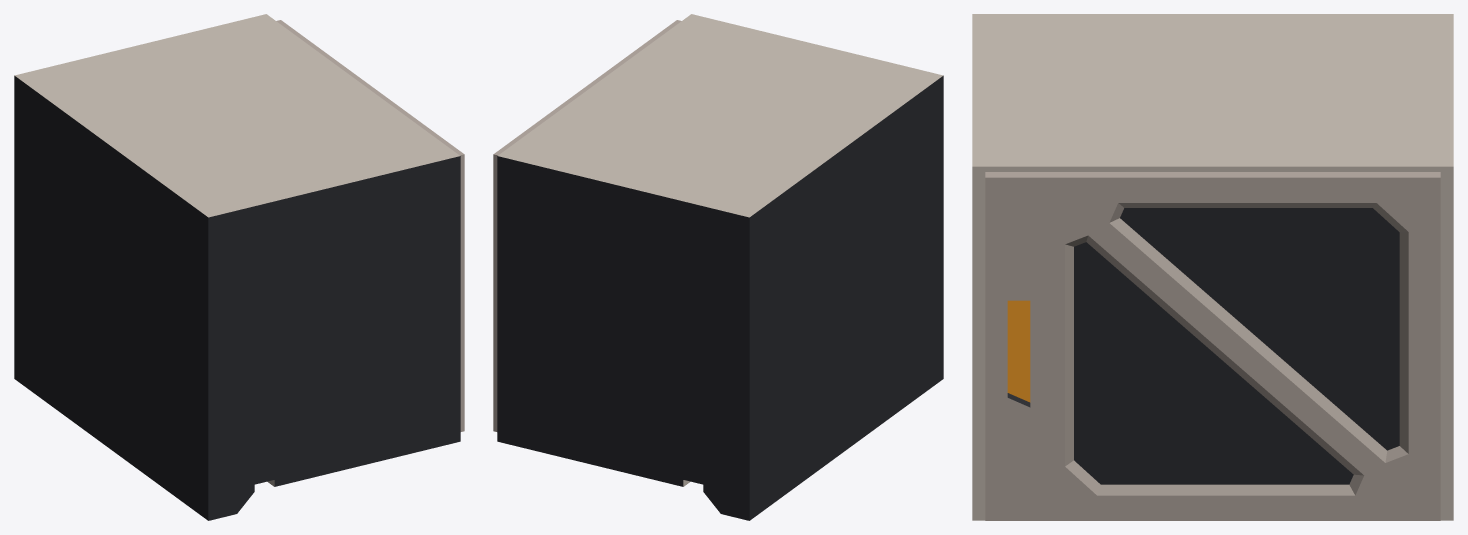
The model's file is SM_Wall_Locker_01.glb.
The picture shows the model from 3 angles, left to right: view 1: azimuth 30°, elevation 25°; view 2: azimuth 150°, elevation 25°; view 3: azimuth 270°, elevation 25°; orthographic projection. The views are drawn at different scales.
Parts seen in each view (by area): view 1: SM_Wall_Locker_01.008; view 2: SM_Wall_Locker_01.008; view 3: SM_Wall_Locker_01.008.
Part boxes in pixels (left/top/right/bottom): SM_Wall_Locker_01.008: left=14, top=14, right=464, bottom=520; SM_Wall_Locker_01.008: left=493, top=14, right=943, bottom=520; SM_Wall_Locker_01.008: left=972, top=14, right=1453, bottom=520.
Bounding box in the file's own units: 0.622 × 0.6902 × 0.8.
Materials: 1 (1 with a texture image).
